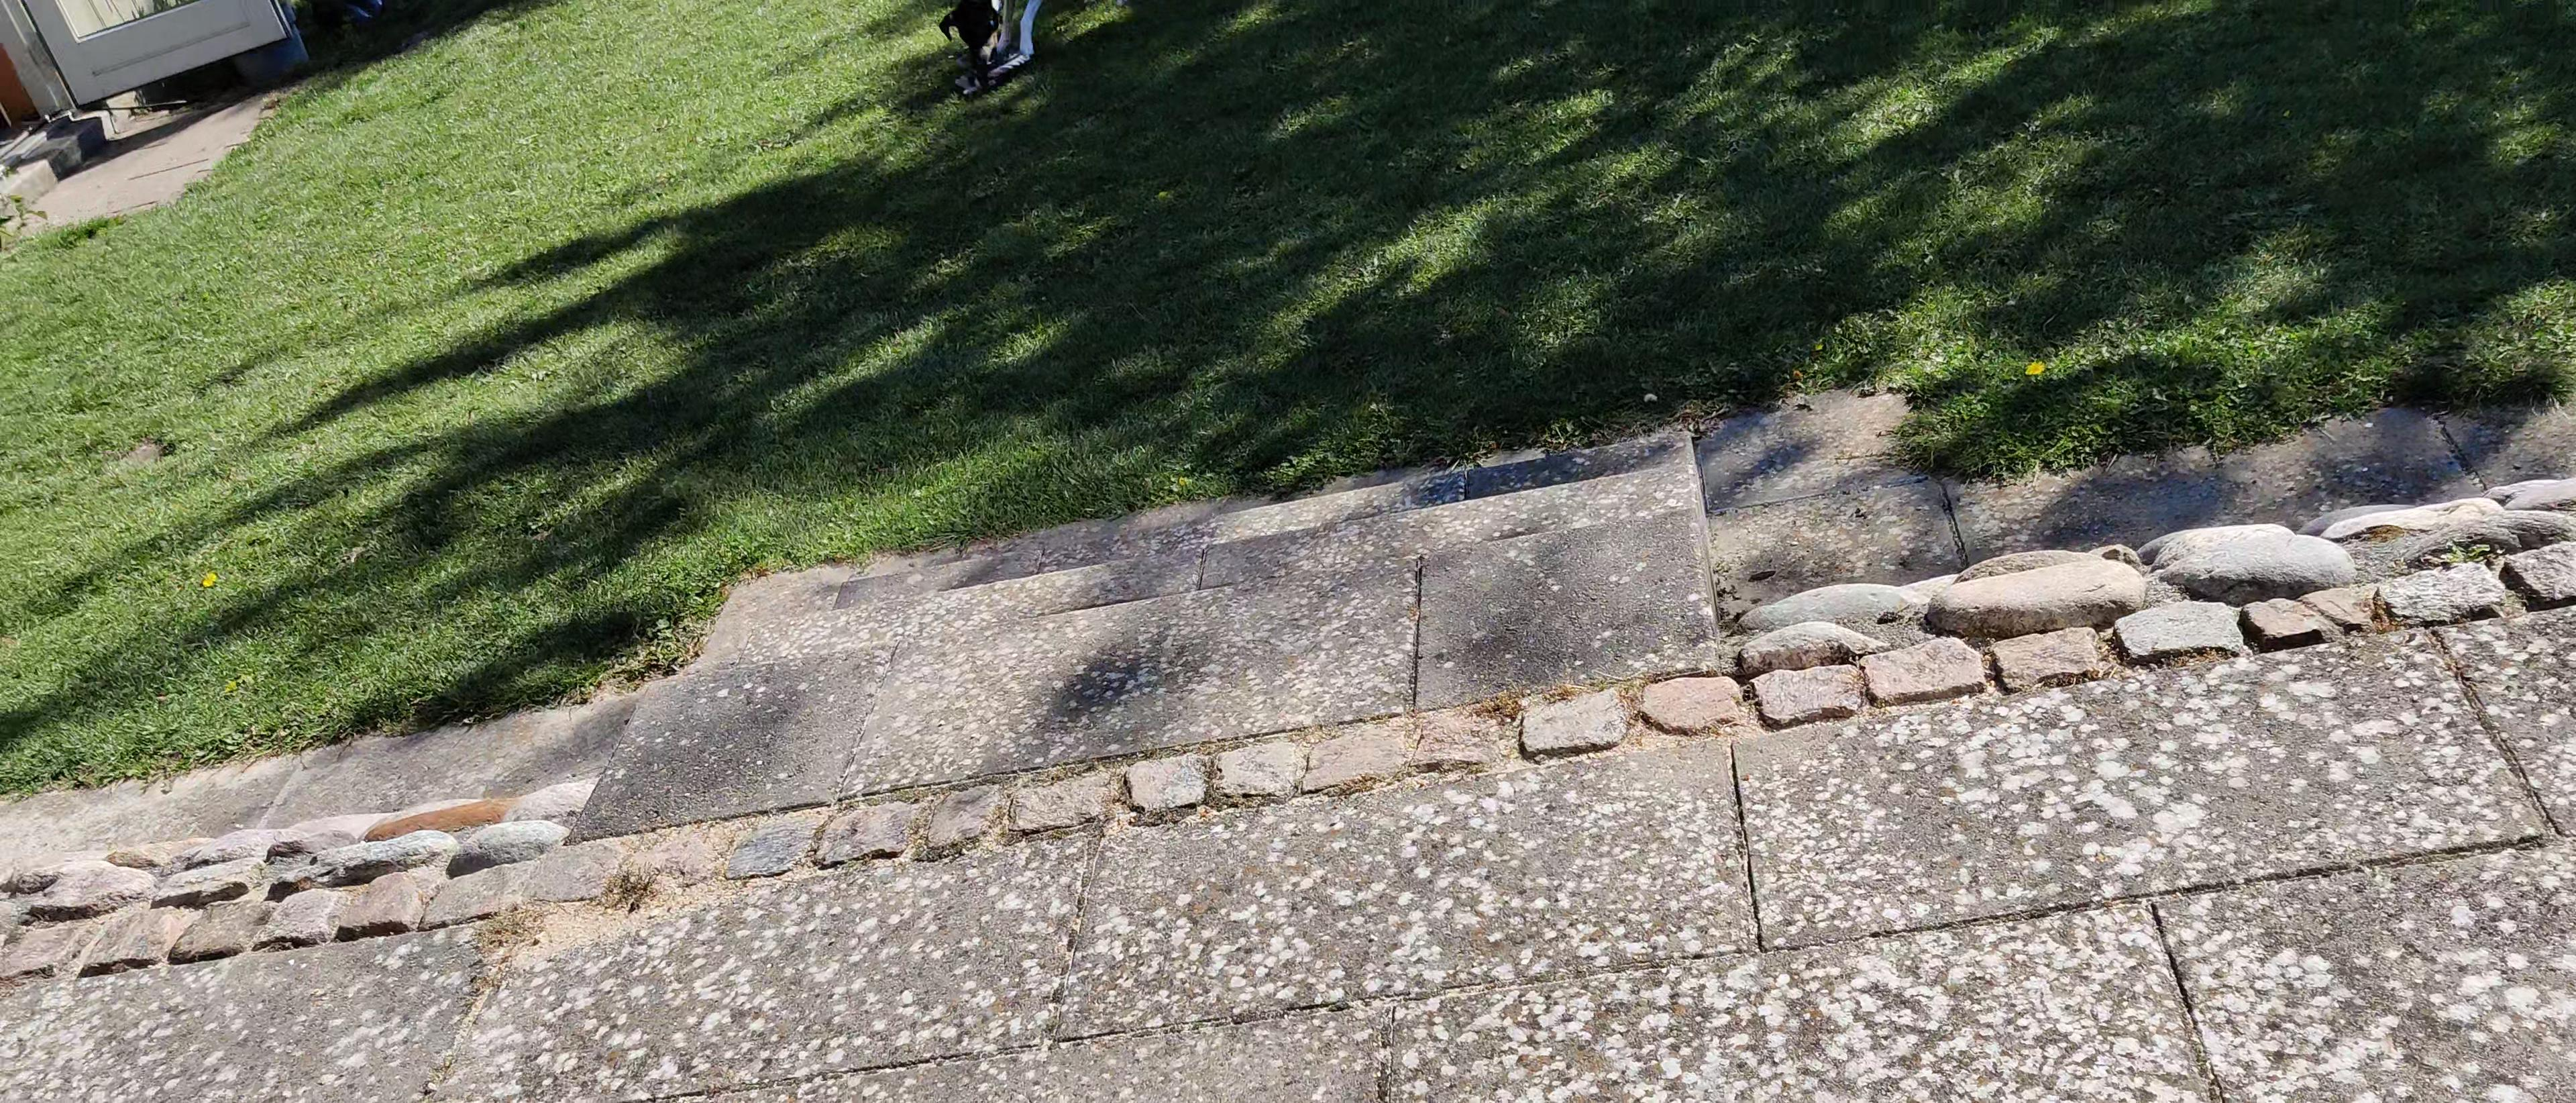Dog: (936, 0, 1051, 72)
